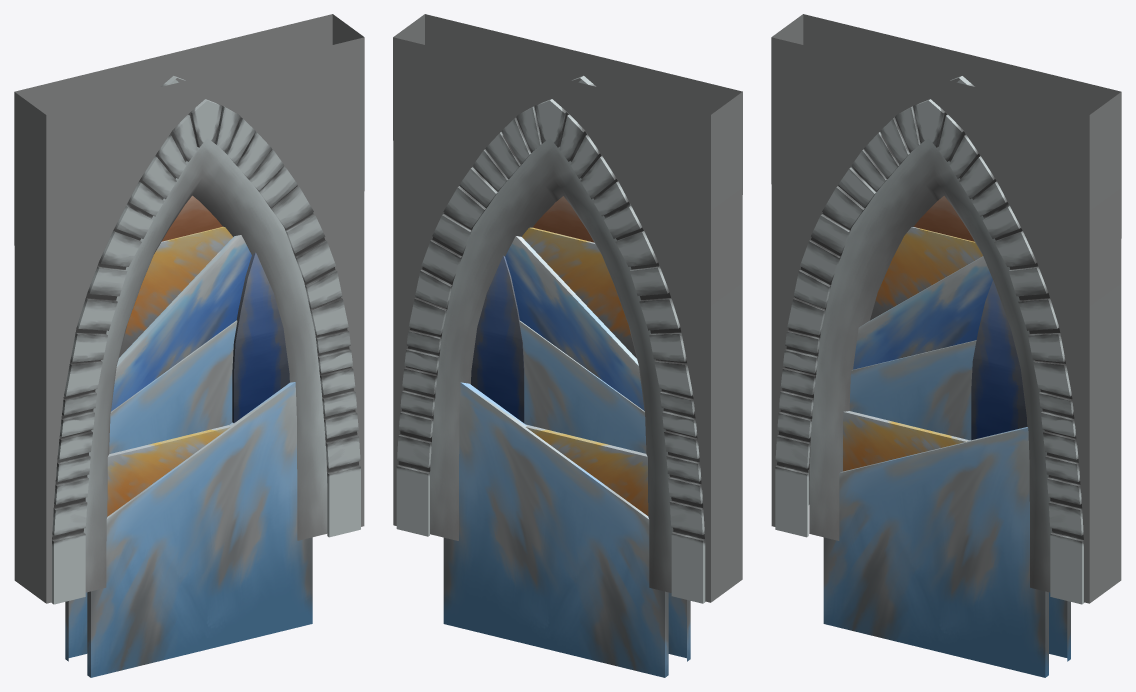
The model's file is Door_Obj.obj.
3 renders of one model, left to right at view 1: azimuth 30°, elevation 25°; view 2: azimuth 150°, elevation 25°; view 3: azimuth 330°, elevation 25°, orthographic.
Parts seen in each view (by area): view 1: Wall4, Sliding_Parts Sliding_parts_pCube20, Back_Bricks3, Doorframe5, Sliding_Parts Sliding_parts_pCube19, Sliding_Parts Sliding_parts_pCube23, Sliding_Parts Sliding_parts_pCube17, Sliding_parts_pCube14 Sliding_Parts, Sliding_Parts Sliding_parts_pCube22, Sliding_Parts Sliding_parts_pCube12; view 2: Wall4, Sliding_Parts Sliding_parts_pCube20, Back_Bricks4, Doorframe5, Sliding_Parts Sliding_parts_pCube19, Sliding_Parts Sliding_parts_pCube23, Sliding_Parts Sliding_parts_pCube17, Sliding_parts_pCube14 Sliding_Parts, Sliding_Parts Sliding_parts_pCube22, Sliding_Parts Sliding_parts_pCube12; view 3: Wall4, Sliding_Parts Sliding_parts_pCube20, Back_Bricks3, Doorframe5, Sliding_Parts Sliding_parts_pCube19, Sliding_Parts Sliding_parts_pCube23, Sliding_Parts Sliding_parts_pCube17, Sliding_parts_pCube14 Sliding_Parts, Sliding_Parts Sliding_parts_pCube22, Sliding_Parts Sliding_parts_pCube12.
Part boxes in pixels (x1,y1,x2,y2): Wall4: (14, 14, 364, 603); Sliding_Parts Sliding_parts_pCube20: (65, 382, 312, 677); Back_Bricks3: (51, 99, 360, 604); Doorframe5: (83, 138, 327, 592); Sliding_Parts Sliding_parts_pCube19: (109, 320, 237, 453); Sliding_Parts Sliding_parts_pCube23: (111, 235, 251, 411); Sliding_Parts Sliding_parts_pCube17: (232, 252, 289, 422); Sliding_parts_pCube14 Sliding_Parts: (119, 226, 232, 357); Sliding_Parts Sliding_parts_pCube22: (107, 425, 230, 516); Sliding_Parts Sliding_parts_pCube12: (162, 195, 222, 241); Wall4: (393, 14, 742, 602); Sliding_Parts Sliding_parts_pCube20: (443, 382, 690, 677); Back_Bricks4: (396, 99, 705, 603); Doorframe5: (430, 138, 673, 592); Sliding_Parts Sliding_parts_pCube19: (519, 320, 646, 453); Sliding_Parts Sliding_parts_pCube23: (505, 236, 644, 410); Sliding_Parts Sliding_parts_pCube17: (471, 255, 524, 422); Sliding_parts_pCube14 Sliding_Parts: (522, 227, 636, 358); Sliding_Parts Sliding_parts_pCube22: (526, 424, 648, 515); Sliding_Parts Sliding_parts_pCube12: (532, 196, 594, 242); Wall4: (771, 14, 1121, 603); Sliding_Parts Sliding_parts_pCube20: (823, 427, 1070, 677); Back_Bricks3: (775, 99, 1084, 604); Doorframe5: (809, 138, 1052, 592); Sliding_Parts Sliding_parts_pCube19: (849, 340, 976, 439); Sliding_Parts Sliding_parts_pCube23: (853, 256, 992, 369); Sliding_Parts Sliding_parts_pCube17: (971, 280, 1027, 440); Sliding_parts_pCube14 Sliding_Parts: (870, 227, 982, 320); Sliding_Parts Sliding_parts_pCube22: (843, 411, 968, 471); Sliding_Parts Sliding_parts_pCube12: (914, 196, 974, 241).
Size of the model in its own units: 2162 by 3747 by 423.
